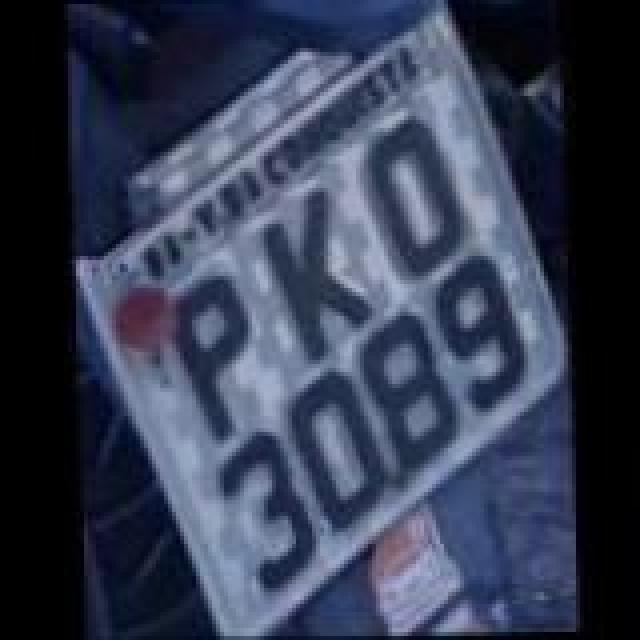3: (224, 428, 324, 592)
8: (360, 308, 460, 476)
9: (432, 262, 536, 418)
K: (256, 184, 384, 364)
O: (358, 112, 474, 288), (282, 360, 390, 532)
P: (162, 268, 262, 444)
